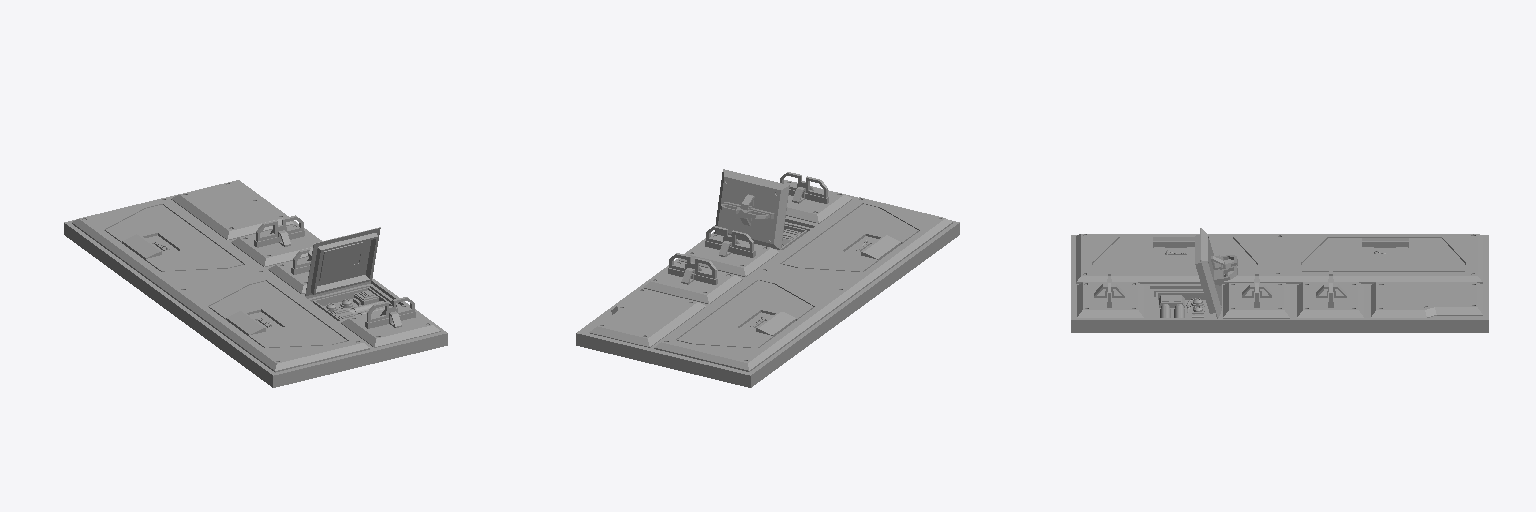
Rendered from s2_bottom_panel_open.obj.
The picture shows the model from 3 angles: view 1: azimuth 30°, elevation 25°; view 2: azimuth 150°, elevation 25°; view 3: azimuth 270°, elevation 25°; orthographic projection.
Parts seen in each view (by area): view 1: mesh_1, mesh_2; view 2: mesh_1, mesh_2; view 3: mesh_1, mesh_2.
Boxes of the visible parts, box(x1,y1,x2,y2) form: mesh_1: box(64, 180, 447, 387); mesh_2: box(82, 183, 429, 361); mesh_1: box(576, 169, 959, 387); mesh_2: box(600, 172, 941, 361); mesh_1: box(1071, 228, 1488, 332); mesh_2: box(1083, 234, 1475, 309).
Bounding box in the file's own units: 18.38 × 7.46 × 38.16.